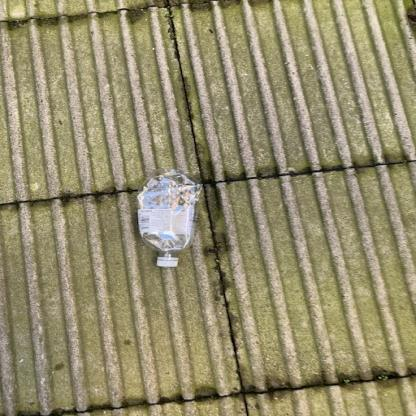trash: (134, 167, 200, 273)
